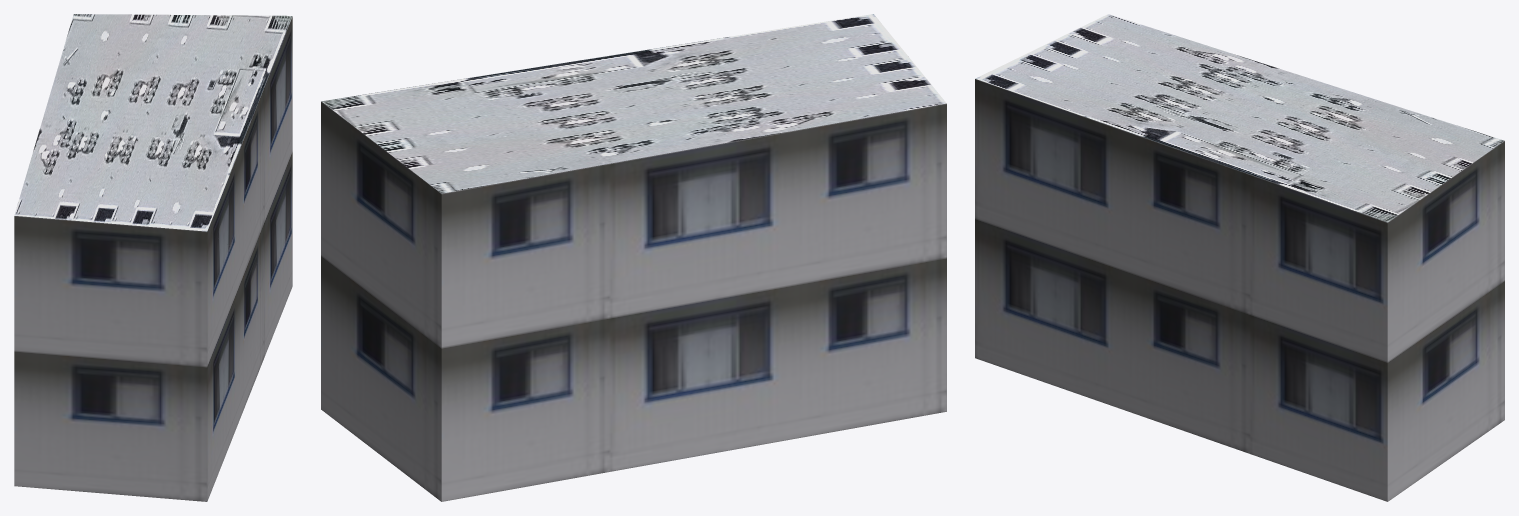
File: ResTex__429.fbx
3 renders of one model, left to right at view 1: azimuth 30°, elevation 25°; view 2: azimuth 150°, elevation 25°; view 3: azimuth 270°, elevation 25°, orthographic. The views are drawn at different scales.
Visible parts, largest first — view 1: CityEngineMaterial_9_m, CityEngineMaterial_2_m; view 2: CityEngineMaterial_9_m, CityEngineMaterial_2_m; view 3: CityEngineMaterial_9_m, CityEngineMaterial_2_m.
Boxes of the visible parts, box(x1,y1,x2,y2) form: CityEngineMaterial_9_m: box(14, 16, 292, 501); CityEngineMaterial_2_m: box(14, 14, 292, 231); CityEngineMaterial_9_m: box(321, 101, 946, 501); CityEngineMaterial_2_m: box(321, 14, 946, 193); CityEngineMaterial_9_m: box(975, 79, 1504, 501); CityEngineMaterial_2_m: box(975, 14, 1504, 222).
Bounding box in the file's own units: 9.61 × 6 × 10.31.
2 materials, 2 textured.
